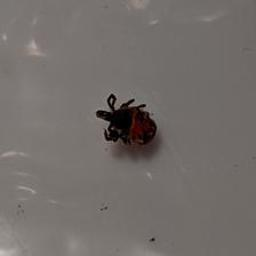Ixodes scapularis: (95, 93, 157, 147)
